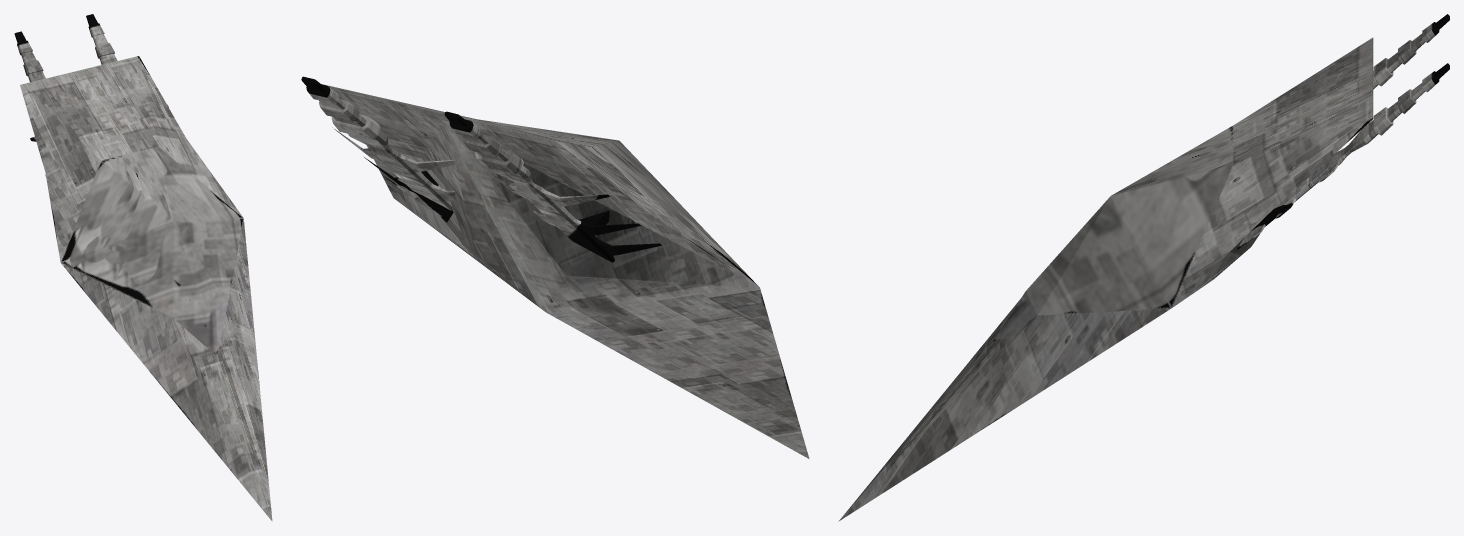
The model's file is wing_weak_open2.fbx.
3 renders of one model, left to right at view 1: azimuth 30°, elevation 25°; view 2: azimuth 150°, elevation 25°; view 3: azimuth 270°, elevation 25°, orthographic. The views are drawn at different scales.
Visible parts, largest first — view 1: polySurface3283, polySurface3233, polySurface3302; view 2: polySurface3283, polySurface3302, polySurface3233; view 3: polySurface3283, polySurface3233, polySurface3302.
Boxes of the visible parts, x1,y1,x2,y2 form: polySurface3283: (20,56,272,521); polySurface3233: (60,146,243,355); polySurface3302: (14,14,168,175); polySurface3283: (321,84,809,458); polySurface3302: (301,76,661,262); polySurface3233: (479,119,758,286); polySurface3283: (838,37,1373,521); polySurface3233: (992,125,1233,343); polySurface3302: (1237,14,1449,249).
Size of the model in its own units: 3.92 by 6.96 by 8.04.
2 materials, 1 textured.
